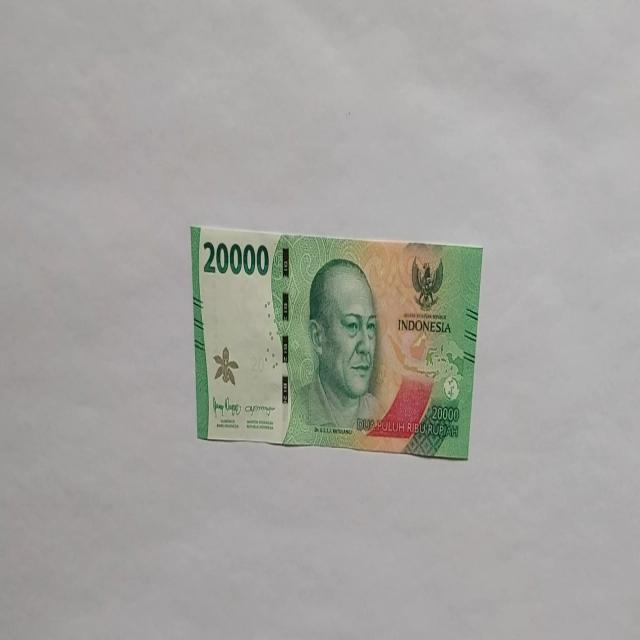dua puluh ribu rupiah: (190, 223, 484, 460), (283, 255, 389, 446)
